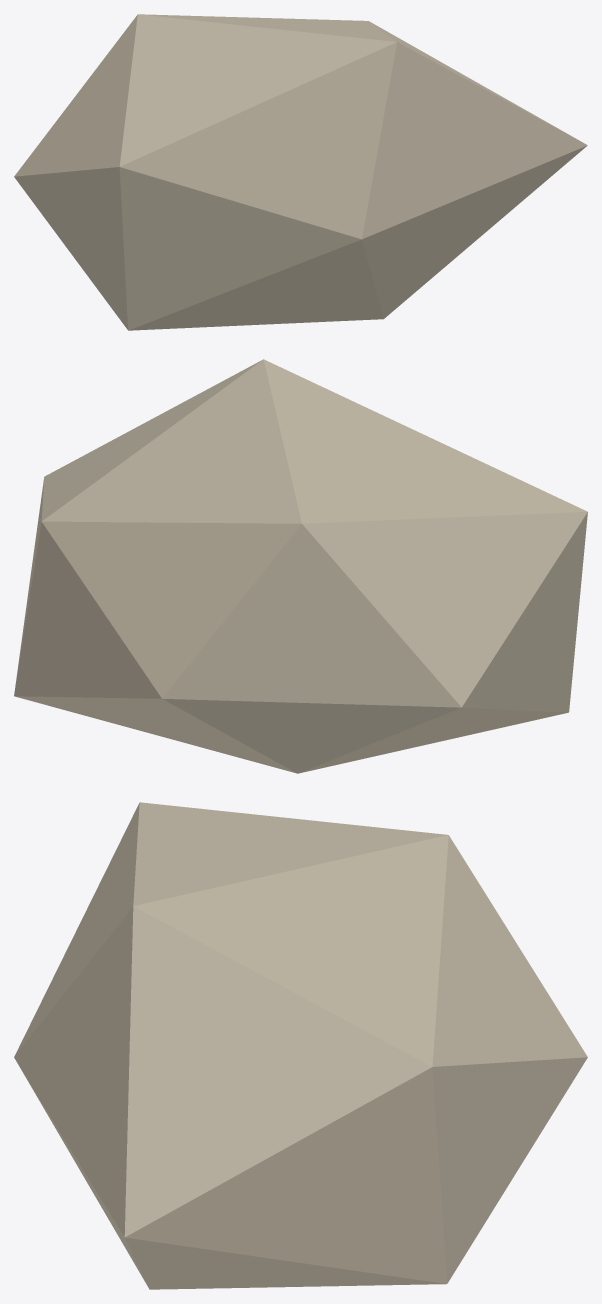
File: palerock_0.glb
3 views of the same model, one above another, from view 1: azimuth 30°, elevation 25°; view 2: azimuth 150°, elevation 25°; view 3: azimuth 270°, elevation 25° (orthographic). The views are drawn at different scales.
Parts seen in each view (by area): view 1: palerock_0; view 2: palerock_0; view 3: palerock_0.
Boxes of the visible parts, x1,y1,x2,y2 form: palerock_0: [14, 14, 587, 330]; palerock_0: [14, 359, 587, 773]; palerock_0: [14, 802, 587, 1289].
Bounding box in the file's own units: 1.13 × 0.6548 × 0.8766.
